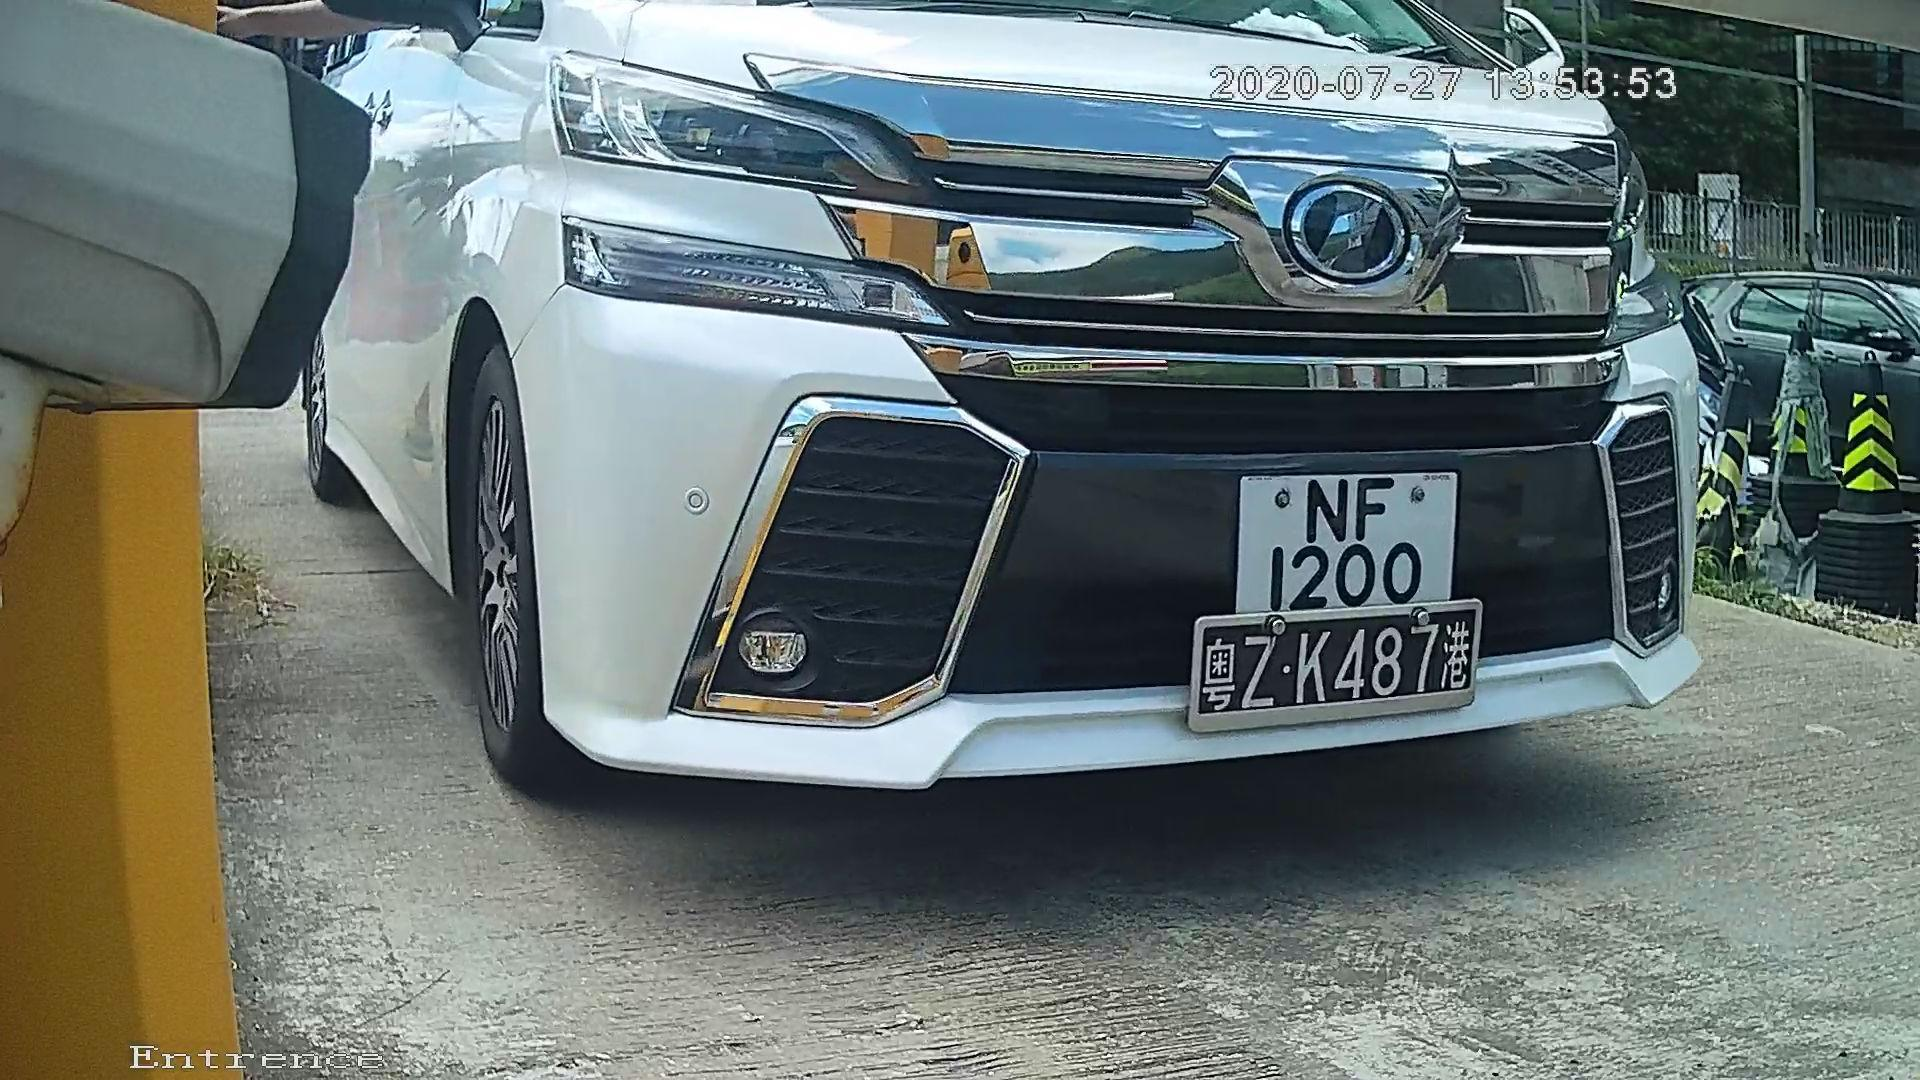License Plate: (1201, 449, 1492, 656)
